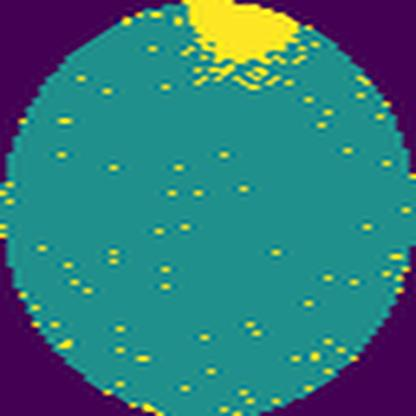Edge-Loc: (183, 0, 310, 86)
